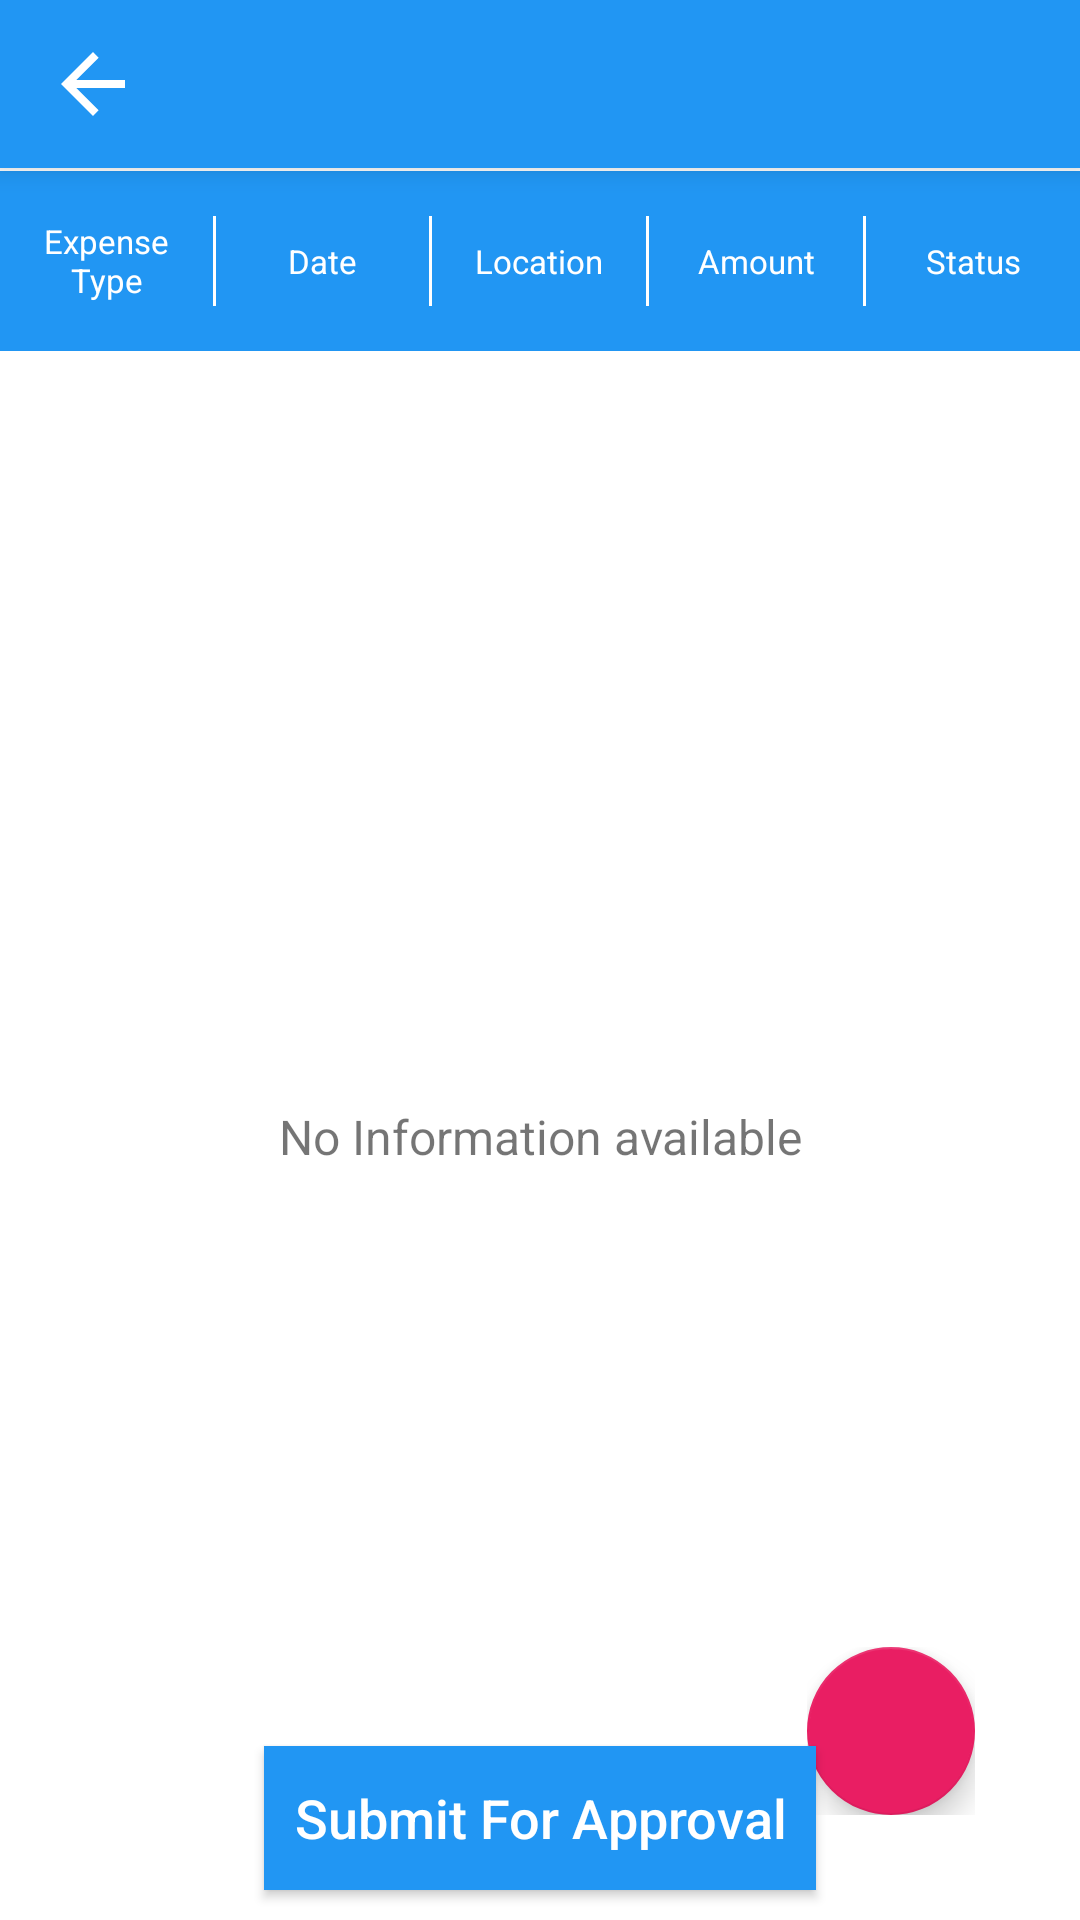

Screen size 1080 × 1920. Icon name, then its center in pixels as [x,y]:
arrow back: [93,84]
